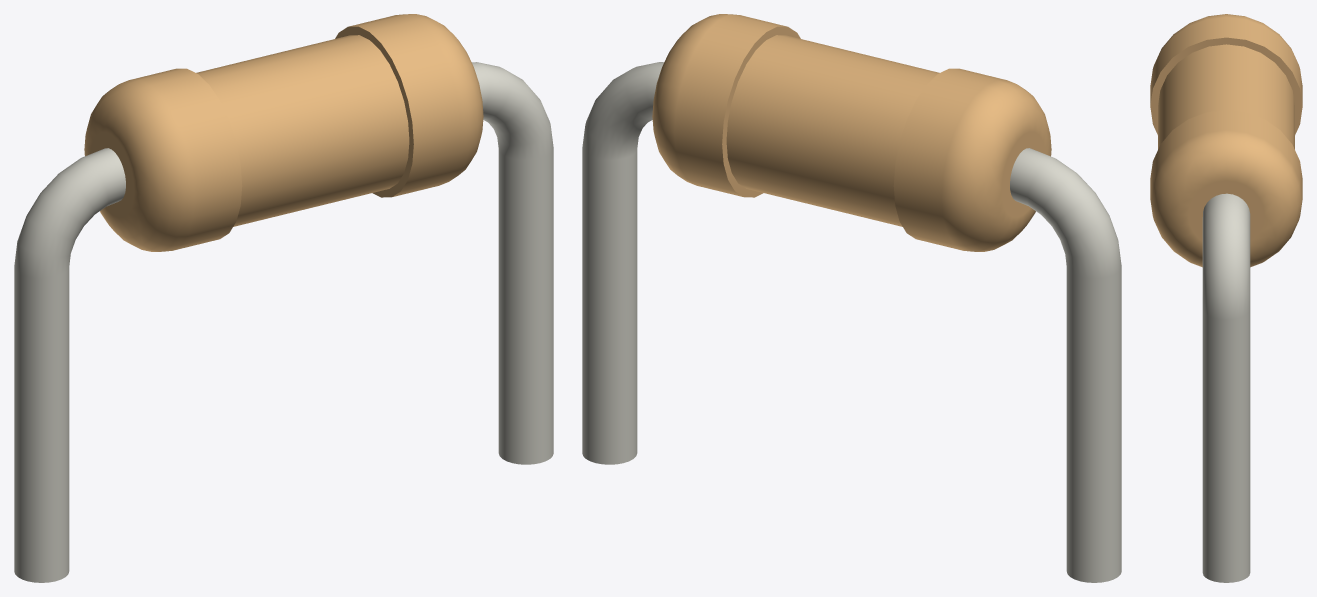
The model's file is Resistor_THT__R_Axial_DIN0204_L3.6mm_D1.6mm_P5.08mm_Horizontal.glb.
3 renders of one model, left to right at view 1: azimuth 30°, elevation 25°; view 2: azimuth 150°, elevation 25°; view 3: azimuth 270°, elevation 25°, orthographic. The views are drawn at different scales.
Parts seen in each view (by area): view 1: R_Axial_DIN0204_L36mm_D16mm_P508mm_Horizontal; view 2: R_Axial_DIN0204_L36mm_D16mm_P508mm_Horizontal; view 3: R_Axial_DIN0204_L36mm_D16mm_P508mm_Horizontal.
Part boxes in pixels (x1=…): R_Axial_DIN0204_L36mm_D16mm_P508mm_Horizontal: x1=14, y1=14, x2=553, y2=582; R_Axial_DIN0204_L36mm_D16mm_P508mm_Horizontal: x1=582, y1=14, x2=1121, y2=582; R_Axial_DIN0204_L36mm_D16mm_P508mm_Horizontal: x1=1150, y1=14, x2=1302, y2=582.
Size of the model in its own units: 0.00558 by 0.0046 by 0.0016.
